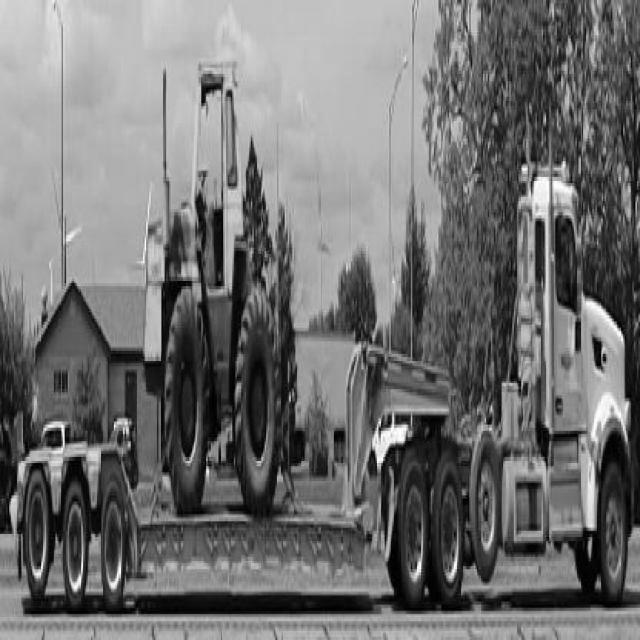Construction Equipment: (144, 59, 283, 515)
Tractor Trailer: (11, 162, 635, 614)
